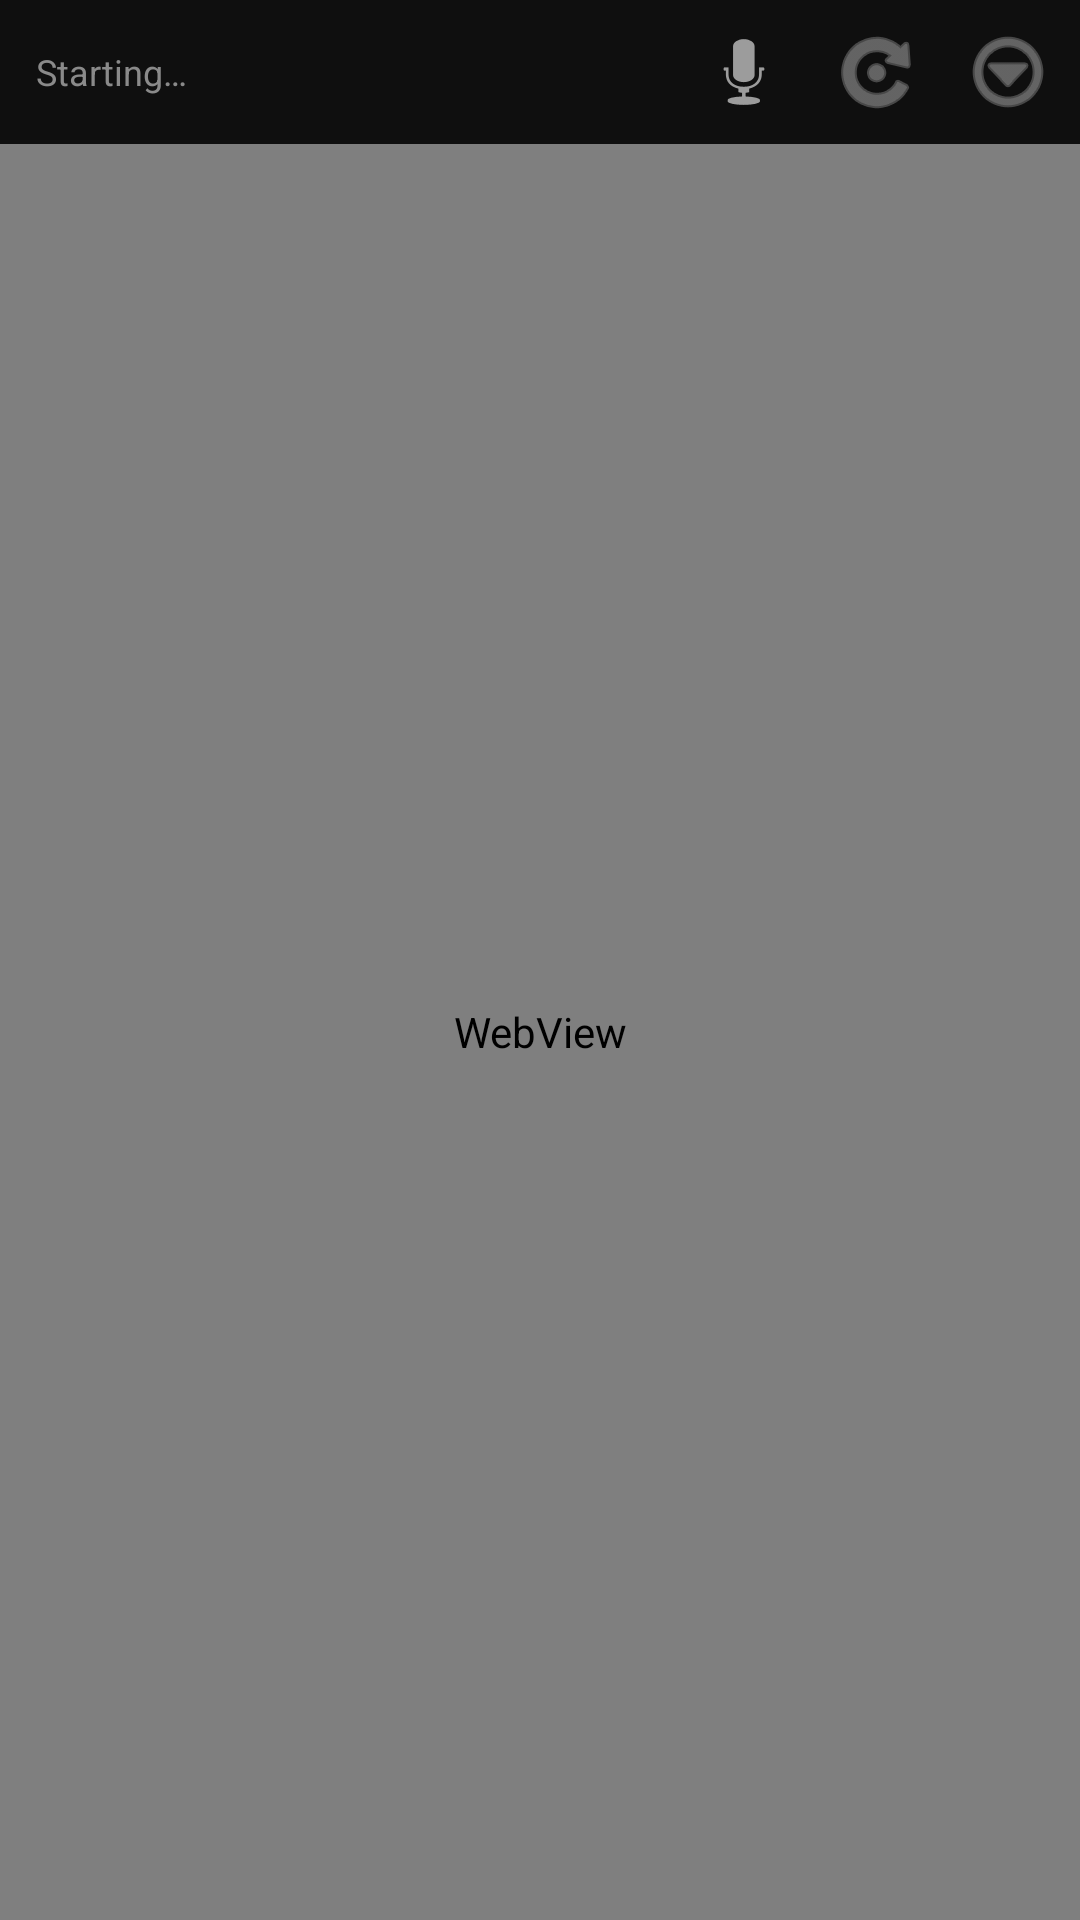

Where to tap for icons on this 1080*1920 app screen, as (x,y):
Menu: (1008,72)
Reload: (876,72)
Voice input: (744,72)
